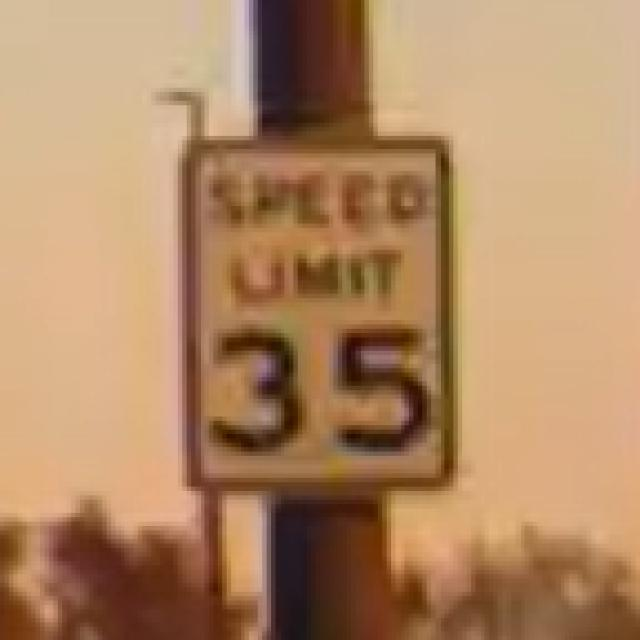speedLimit35: (182, 136, 454, 487)
